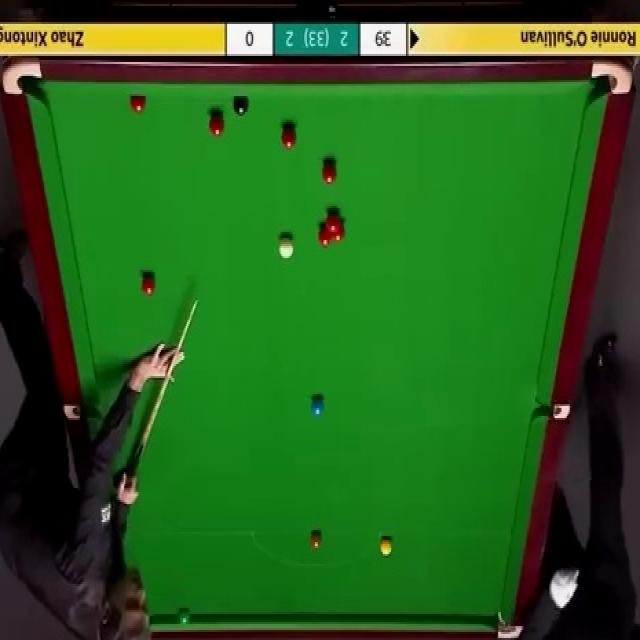black-ball: (233, 97, 250, 117)
blue-ball: (309, 395, 325, 418)
brown-ball: (309, 529, 323, 552)
green-ball: (177, 610, 190, 626)
red-ball: (281, 123, 297, 151), (208, 112, 225, 138), (321, 160, 336, 185), (141, 274, 155, 296), (129, 95, 145, 114), (326, 210, 339, 232), (318, 225, 331, 247), (332, 228, 344, 241)
white-ball: (278, 236, 294, 260)
yellow-ball: (380, 537, 393, 557)
